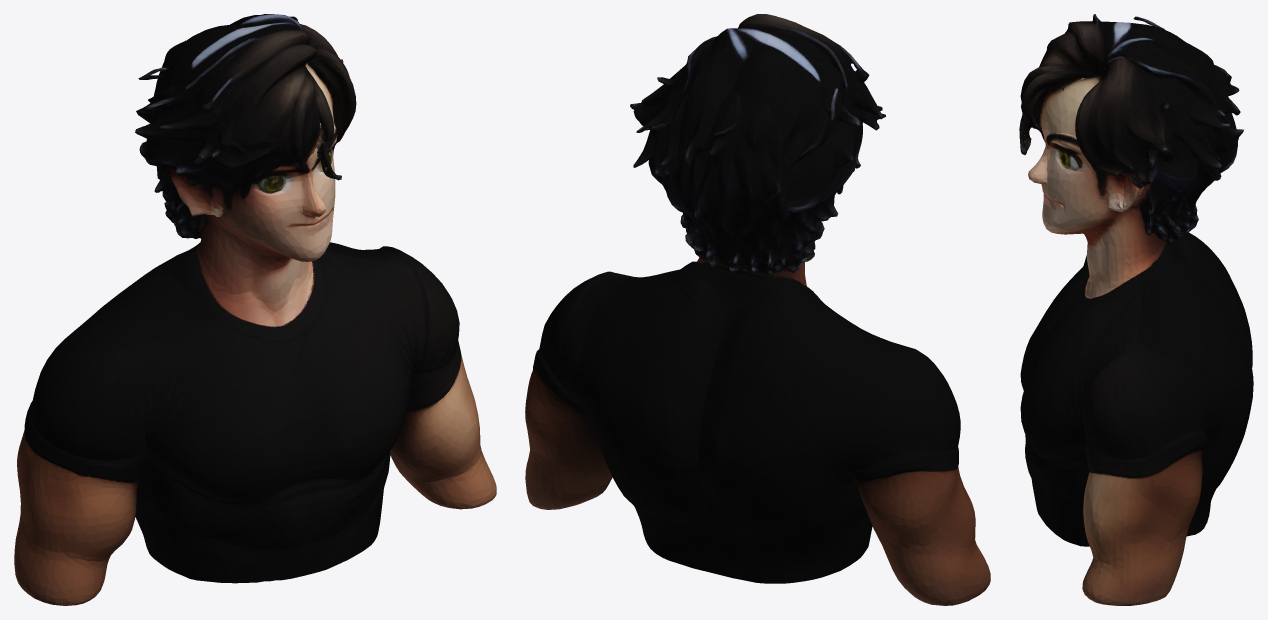
Rendered from Boy7boutique.glb.
3 views of the same model, side by side, from view 1: azimuth 30°, elevation 25°; view 2: azimuth 150°, elevation 25°; view 3: azimuth 270°, elevation 25° (orthographic). The views are drawn at different scales.
Parts seen in each view (by area): view 1: world; view 2: world; view 3: world.
Boxes of the visible parts, x1,y1,x2,y2 form: world: (14,14,496,605); world: (525,14,990,605); world: (1019,14,1253,605).
Bounding box in the file's own units: 0.9273 × 1 × 0.4451.
Materials: 1 (1 with a texture image).
